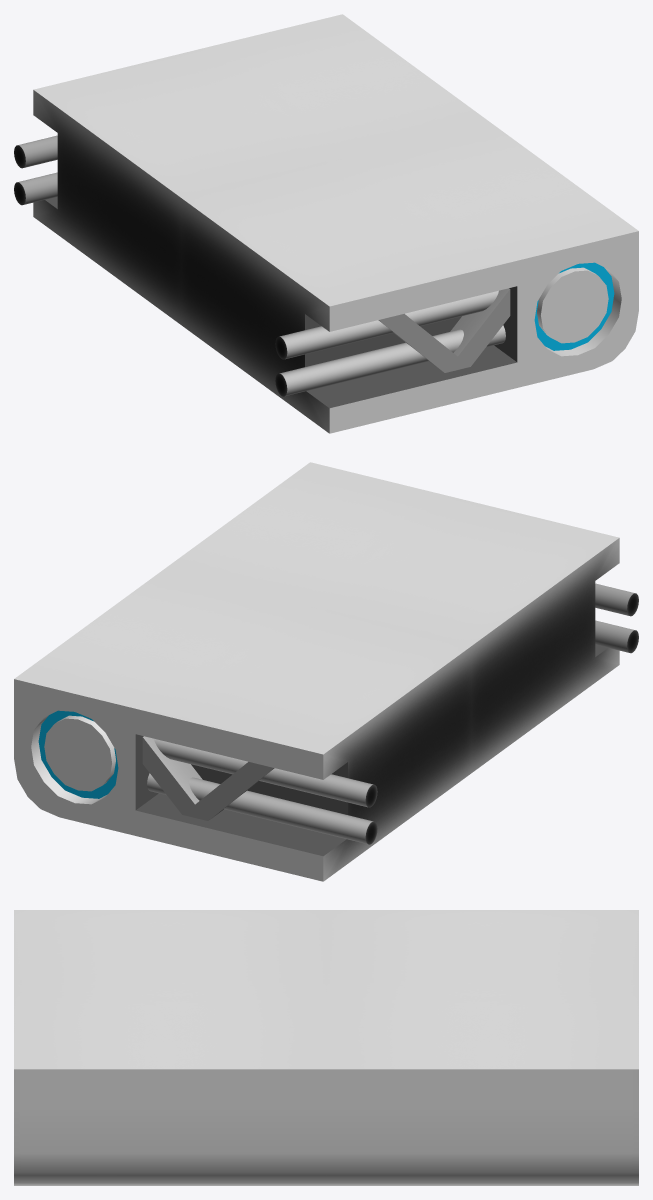
Rendered from Floor6.fbx.
3 renders of one model, top to bottom at view 1: azimuth 30°, elevation 25°; view 2: azimuth 150°, elevation 25°; view 3: azimuth 270°, elevation 25°, orthographic. The views are drawn at different scales.
Visible parts, largest first — view 1: pCube1, pCylinder1, pCylinder2, pCube9; view 2: pCube1, pCylinder1, pCylinder2, pCube9; view 3: pCube1.
Part boxes in pixels (x1=…): pCube1: x1=33, y1=14, x2=638, y2=433; pCylinder1: x1=14, y1=172, x2=505, y2=396; pCylinder2: x1=14, y1=135, x2=498, y2=359; pCube9: x1=378, y1=288, x2=510, y2=372; pCube1: x1=14, y1=462, x2=619, y2=881; pCylinder1: x1=147, y1=620, x2=638, y2=844; pCylinder2: x1=154, y1=583, x2=638, y2=807; pCube9: x1=142, y1=736, x2=274, y2=820; pCube1: x1=14, y1=910, x2=638, y2=1185.
Size of the model in its own units: 8.75 by 3.13 by 13.2.
